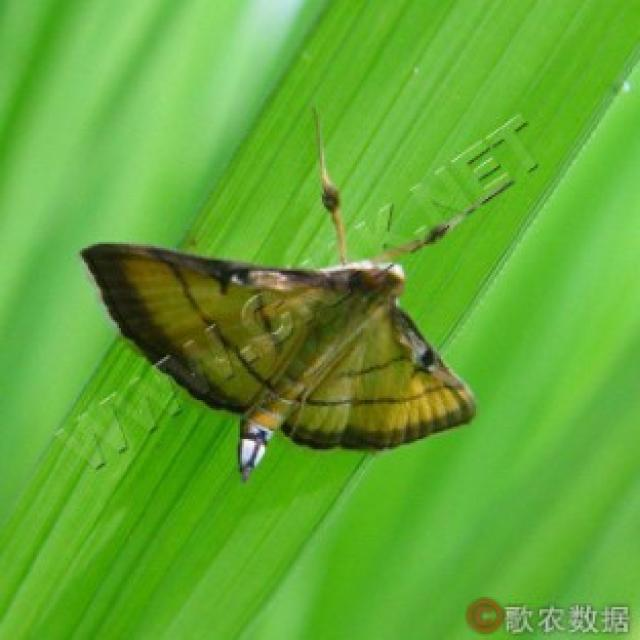rice leaf roller: (82, 111, 509, 478)
